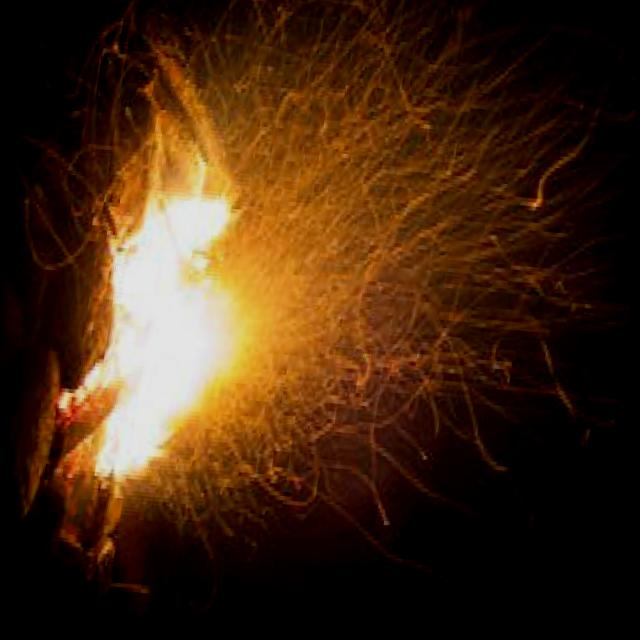helmet: (58, 147, 277, 521)
